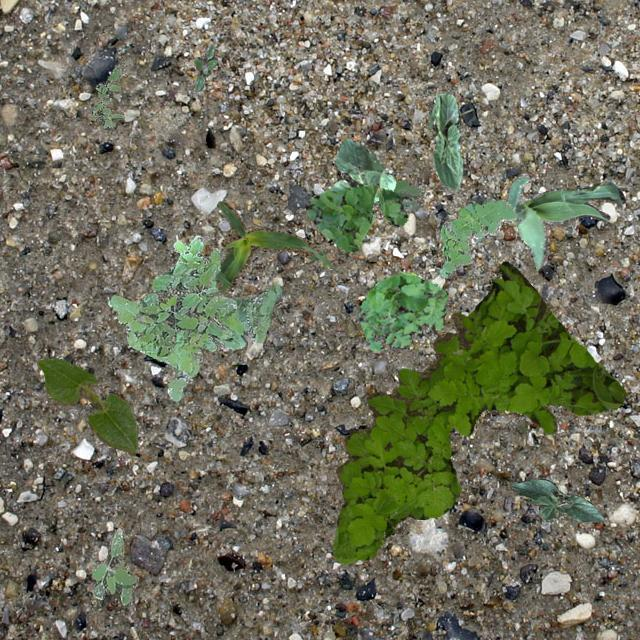crop: (469, 172, 624, 270), (214, 200, 334, 294), (36, 356, 136, 454), (510, 478, 604, 522), (330, 137, 394, 200), (428, 92, 462, 188)
weed: (332, 261, 626, 564), (107, 278, 280, 401), (134, 235, 236, 358), (356, 270, 446, 350), (304, 182, 406, 250), (438, 198, 516, 278), (364, 146, 422, 212), (90, 526, 138, 604), (89, 58, 132, 128), (192, 42, 216, 92)
